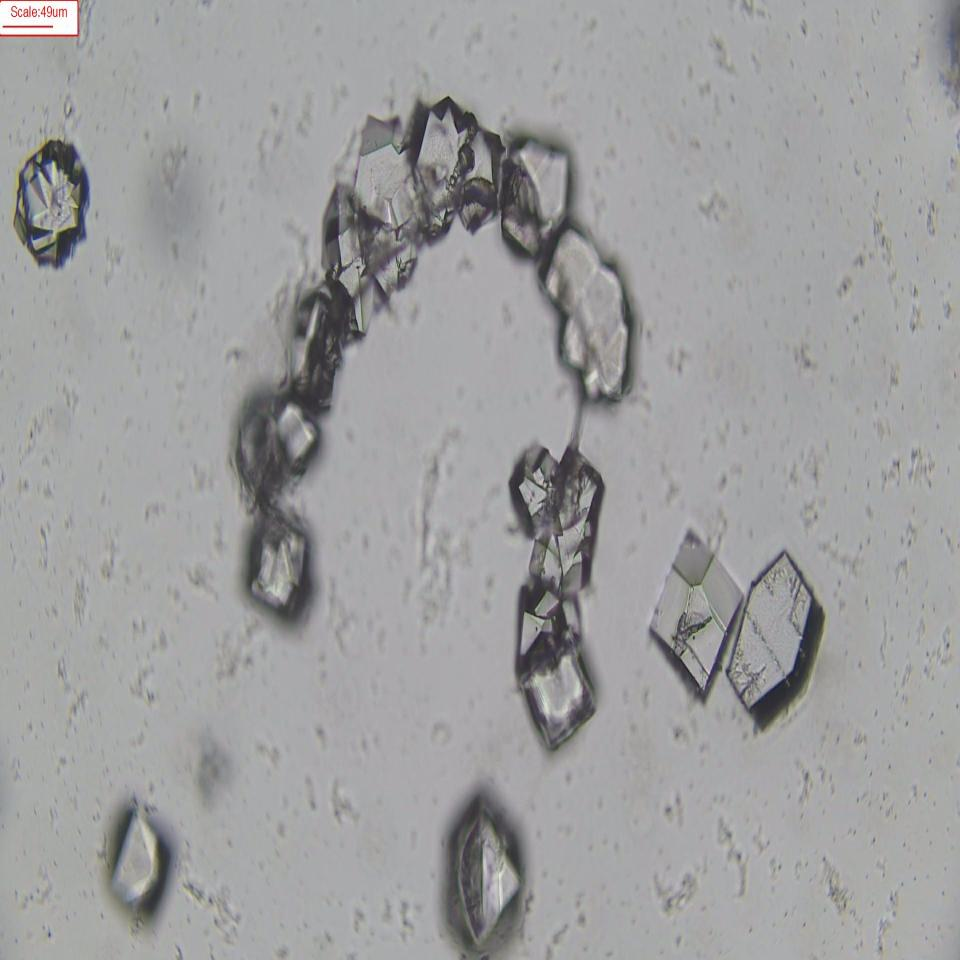crystal: (8, 126, 100, 288), (651, 528, 738, 689), (738, 553, 819, 718), (443, 794, 524, 954), (110, 812, 165, 906)
not_crystal: (518, 455, 595, 745), (348, 110, 500, 226), (237, 394, 319, 600)
